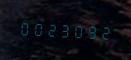nine: (82, 20, 94, 41)
three: (56, 19, 68, 40)
two: (43, 18, 55, 39), (95, 21, 107, 42)
zero: (17, 17, 29, 38), (30, 18, 42, 38), (69, 20, 81, 40)
